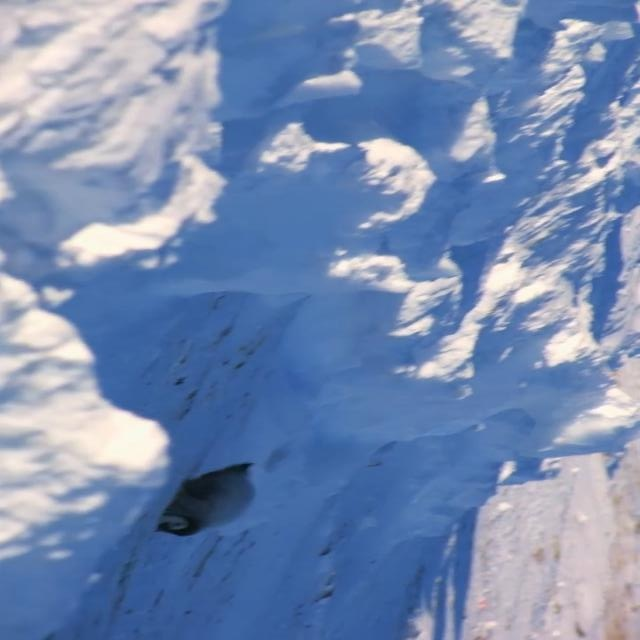penguin: (155, 461, 258, 536)
